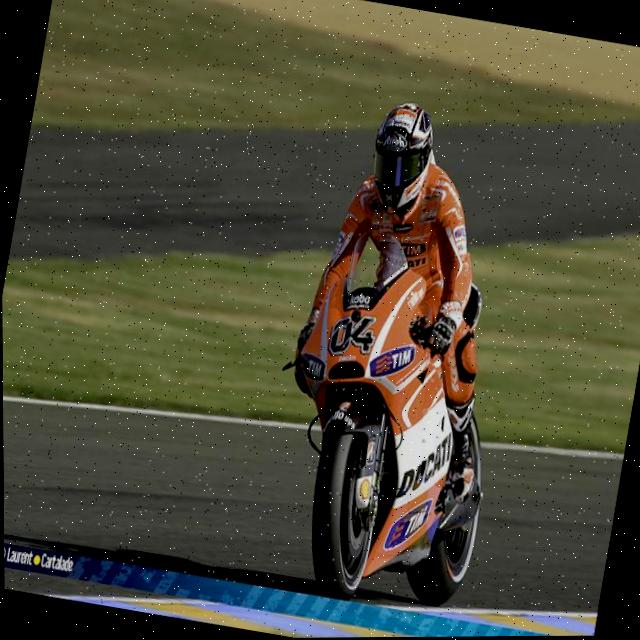motorcycle: (271, 328, 507, 625)
